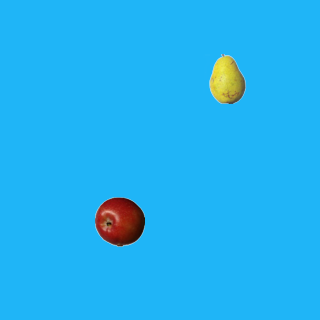Apple Braeburn: (94, 196, 144, 246)
Pear Monster: (202, 53, 252, 103)
